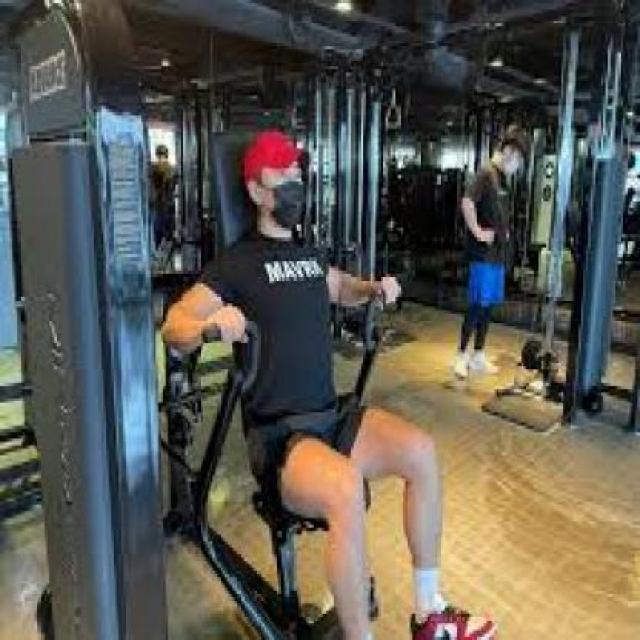Chest Press machine: (8, 0, 512, 640)
